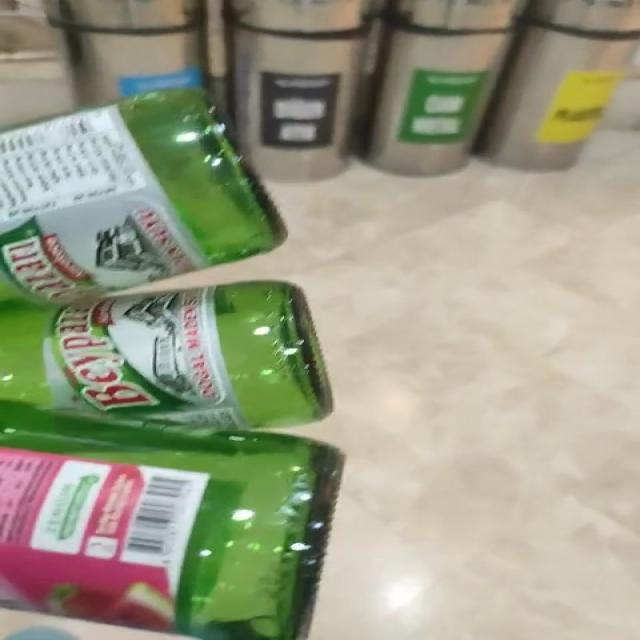Glass: (0, 89, 344, 640)
